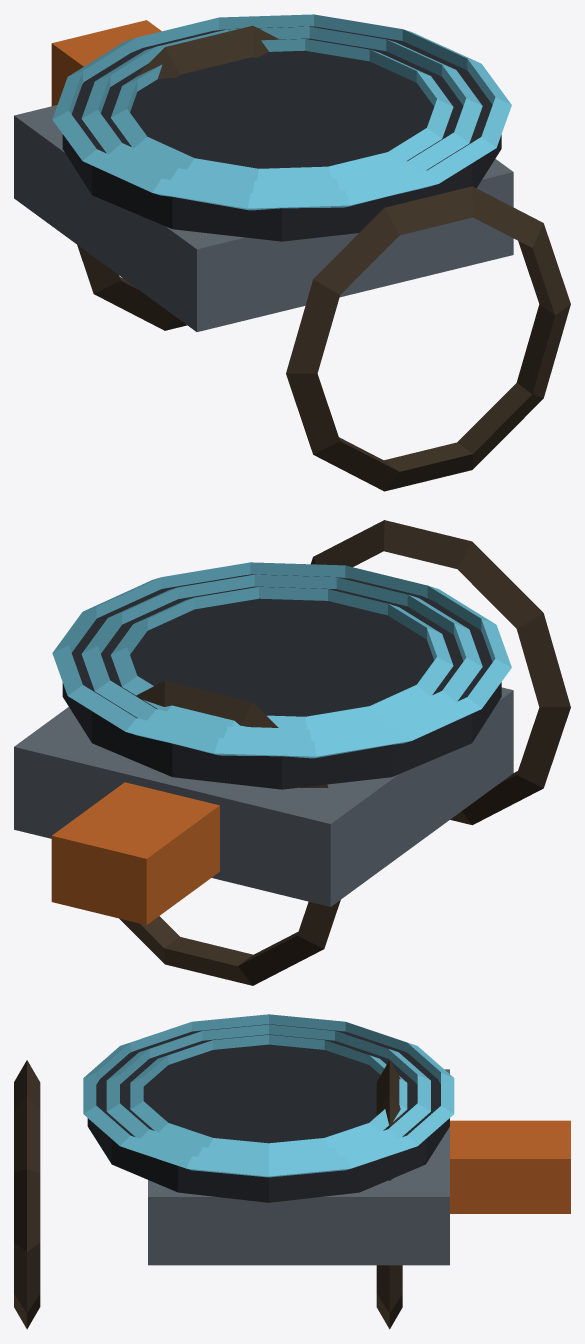
Rendered from heavy-shield-generator.glb.
The picture shows the model from 3 angles, top to bottom: view 1: azimuth 30°, elevation 25°; view 2: azimuth 150°, elevation 25°; view 3: azimuth 270°, elevation 25°; orthographic projection. The views are drawn at different scales.
Visible parts, largest first — view 1: m; view 2: m; view 3: m.
Part boxes in pixels (left/top/right/bottom): m: left=14, top=14, right=570, bottom=491; m: left=14, top=520, right=570, bottom=985; m: left=14, top=1014, right=570, bottom=1329.
Bounding box in the file's own units: 0.1299 × 0.0882 × 0.19.
